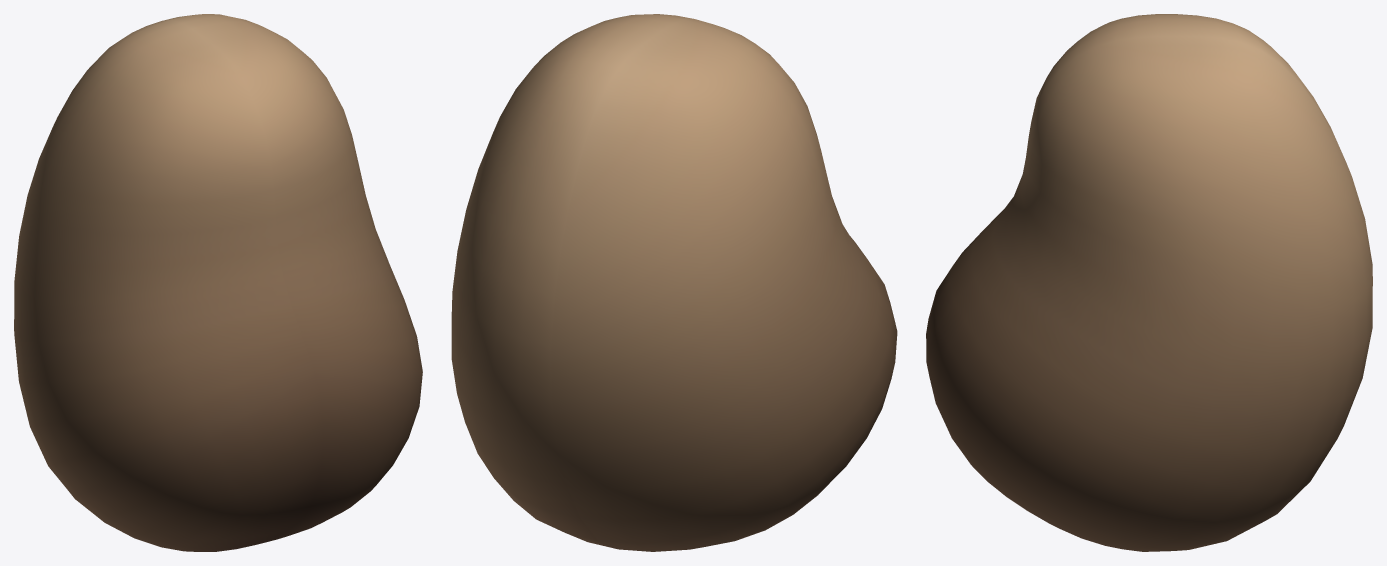
The model's file is potato_fbx.fbx.
3 views of the same model, side by side, from view 1: azimuth 30°, elevation 25°; view 2: azimuth 150°, elevation 25°; view 3: azimuth 270°, elevation 25° (orthographic). The views are drawn at different scales.
Parts seen in each view (by area): view 1: Cube.042; view 2: Cube.042; view 3: Cube.042.
Boxes of the visible parts, x1,y1,x2,y2 form: Cube.042: (14, 14, 422, 551); Cube.042: (451, 14, 897, 551); Cube.042: (926, 14, 1372, 551).
Bounding box in the file's own units: 37.48 × 49.39 × 40.76.
